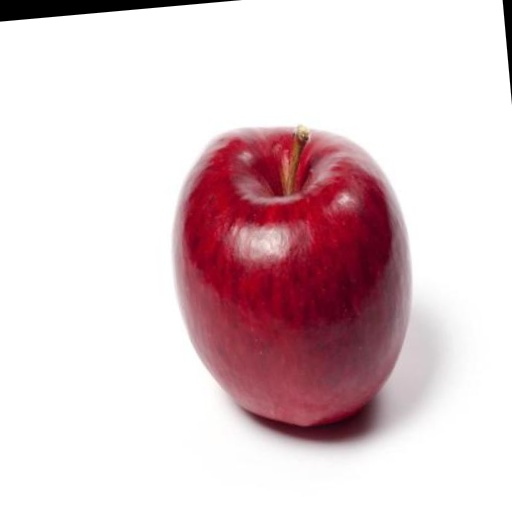fruit: (173, 127, 410, 425)
